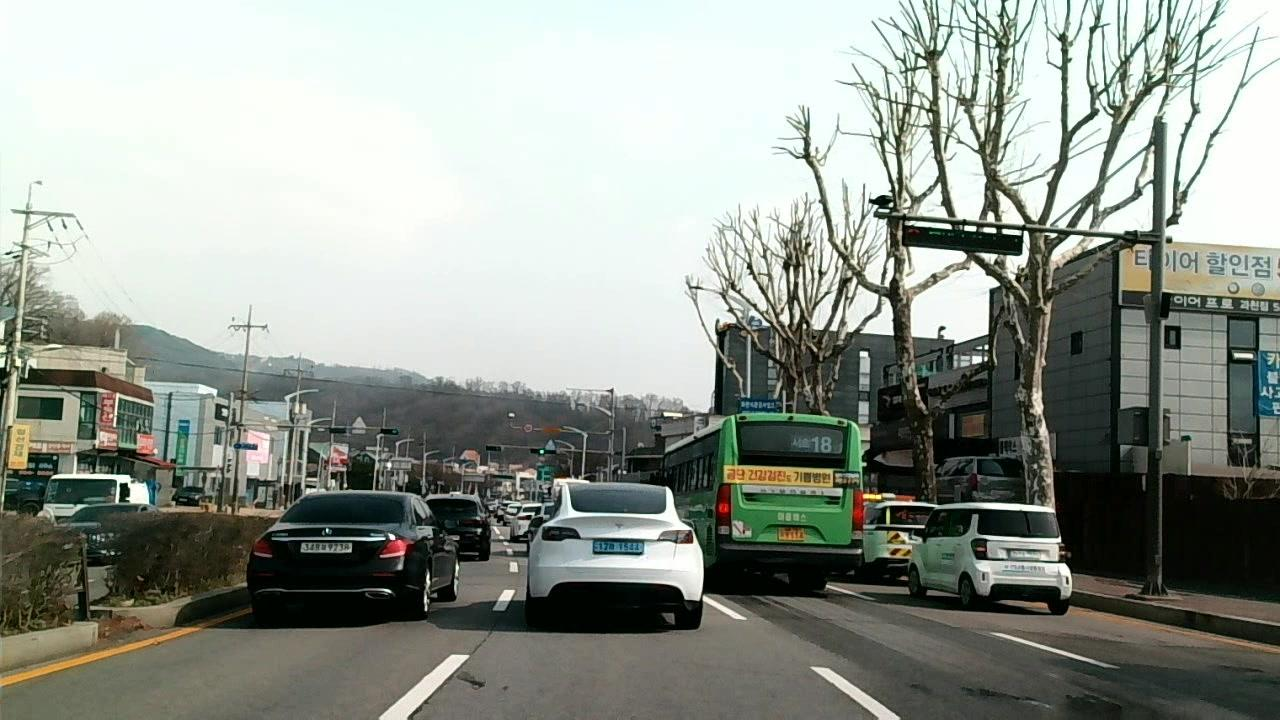banner: (407, 621, 496, 720)
